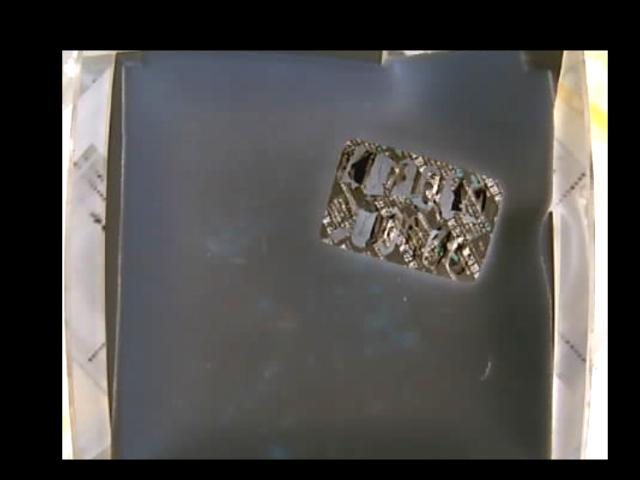Medicine: (318, 139, 502, 282)
